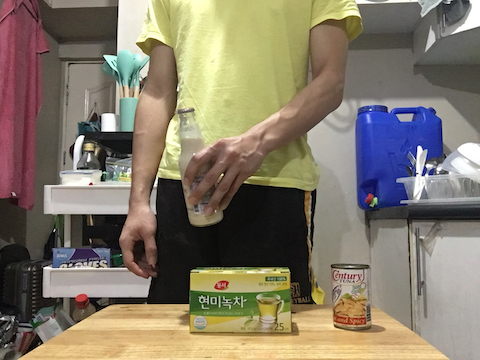bottle: (171, 101, 226, 227)
box: (185, 265, 299, 339)
can: (331, 261, 376, 333)
grab: (182, 134, 256, 218)
